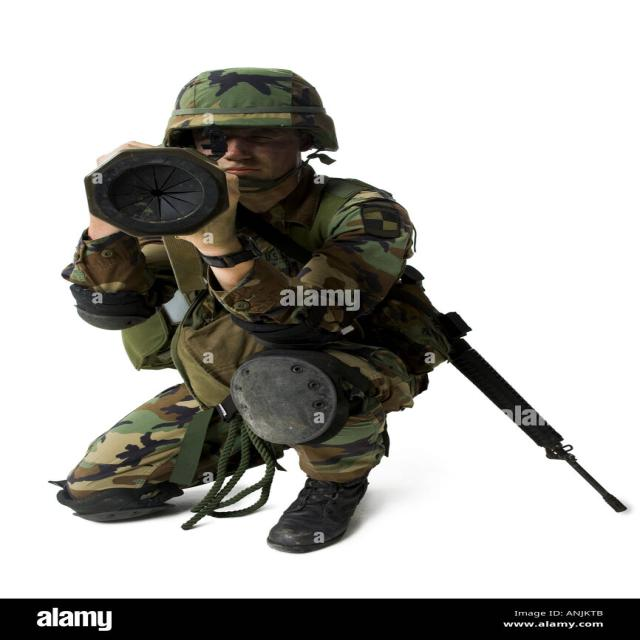bazooka: (40, 115, 306, 259)
